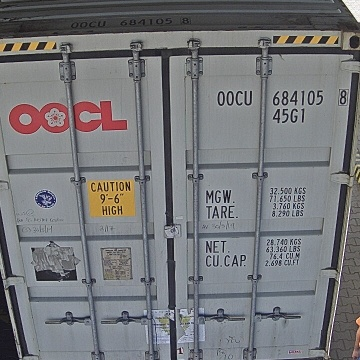serial_id: (217, 89, 348, 105)
